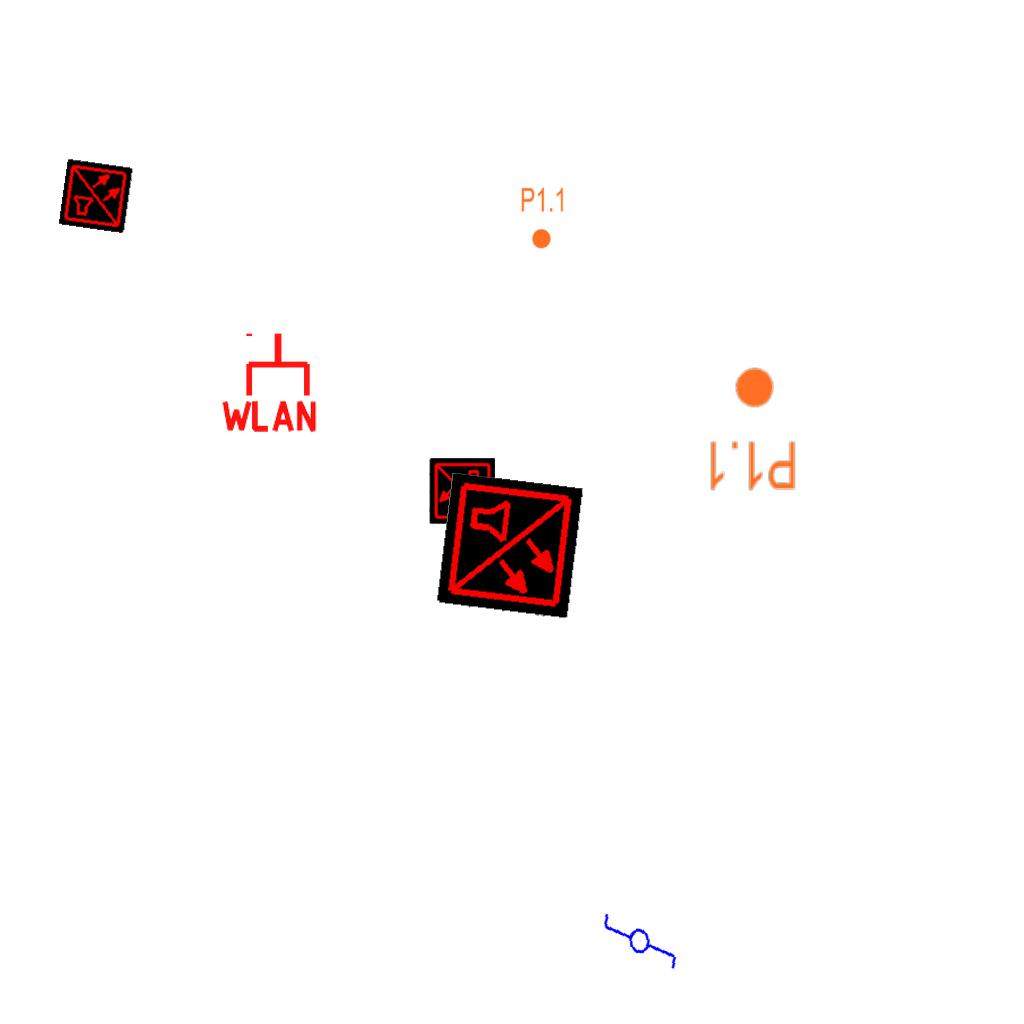Downlight_LED_Einbauleuchten_Flur: (705, 365, 798, 493), (520, 186, 566, 250)
OKW_Multisensormelder_(Kombination_optischer_Rauch-Kahlenmonoxid_Waerme-Melder): (436, 472, 584, 620), (58, 158, 134, 234), (429, 458, 495, 524)
WLAN: (217, 329, 321, 434)
Wechselschalter: (598, 892, 682, 982)
